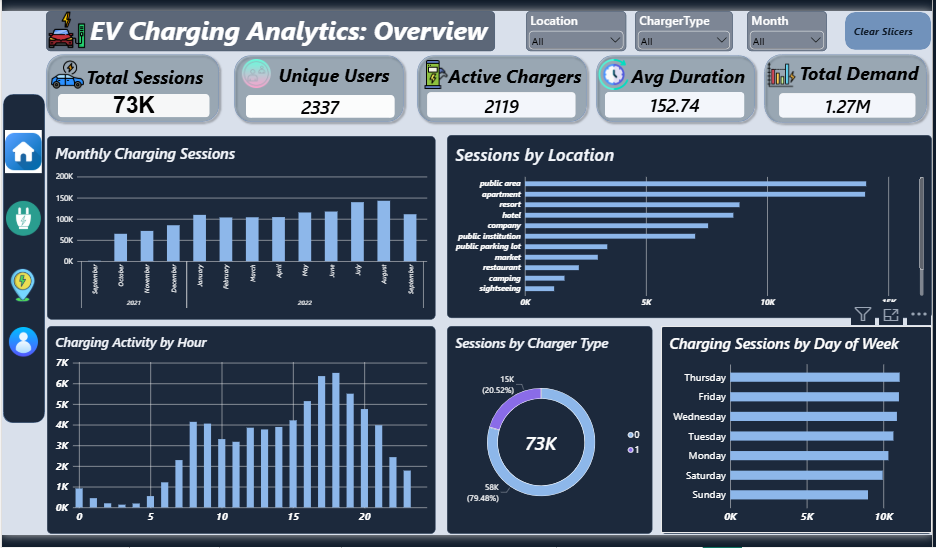

Layout of this report page (visuals, bound fields, positions):
{"tool":"powerbi","page":{"name":"overview","canvas":[1920,1080],"ordinal":0},"visuals":[{"type":"group","id":"g1","title":"Group 2","box":[66.1,80.6,417,156.9],"z":0},{"type":"group","id":"g2","title":"Group 1","box":[82.6,80.6,400.5,156.9],"z":0,"group":"g1"},{"type":"group","id":"g3","title":"Group 1","box":[1564.8,80.6,353.4,159],"z":0,"group":"g10"},{"type":"group","id":"g4","title":"Group 1","box":[470.7,82.6,409.4,154.8],"z":0,"group":"g7"},{"type":"group","id":"g5","title":"Group 1","box":[849.1,82.6,405,154.8],"z":0,"group":"g14"},{"type":"group","id":"g6","title":"Group 1","box":[1218.2,82.6,380.4,154.8],"z":0,"group":"g9"},{"type":"shape","box":[2.1,171.4,86.7,679.2],"z":0,"group":"g13"},{"type":"shape","box":[2.1,179.6,78.5,671],"z":0,"group":"g11"},{"type":"textbox","box":[90.8,0,927,82.6],"z":1000,"group":"g12"},{"type":"group","id":"g7","title":"Group 3","box":[470.7,82.6,409.4,154.8],"z":1000},{"type":"image","box":[66.1,96,138.3,72.3],"z":1000,"group":"g1"},{"type":"image","box":[483.7,100,84.6,59.9],"z":1000,"group":"g7"},{"type":"image","box":[846.8,100,97,64],"z":1000,"group":"g14"},{"type":"image","box":[1216,100,91.1,64],"z":1000,"group":"g9"},{"type":"image","box":[1577.5,102.1,64,59.9],"z":1000,"group":"g10"},{"type":"shape","box":[82.6,80.6,374.5,156.9],"z":2000,"group":"g2"},{"type":"shape","box":[1564.8,80.6,353,159],"z":2000,"group":"g3"},{"type":"shape","box":[470.7,82.6,367.5,154.8],"z":2000,"group":"g4"},{"type":"group","id":"g8","title":"Group 3","box":[846.8,82.6,407.4,154.8],"z":2000},{"type":"shape","box":[849.1,82.6,367.5,154.8],"z":2000,"group":"g5"},{"type":"shape","box":[1218.2,82.6,345.1,154.8],"z":2000,"group":"g6"},{"type":"group","id":"g9","title":"Group 3","box":[1216,82.6,381.9,154.8],"z":3000},{"type":"textbox","box":[1620.9,104.1,297.3,76.4],"z":3000,"group":"g3"},{"type":"textbox","box":[491.9,108.2,388.1,80.5],"z":3000,"group":"g4"},{"type":"textbox","box":[866,109.6,388.1,80.5],"z":3000,"group":"g5"},{"type":"textbox","box":[1234.1,109.6,364.5,80.5],"z":3000,"group":"g6"},{"type":"textbox","box":[104.7,111.4,378.4,76.6],"z":3000,"group":"g2"},{"type":"group","id":"g10","title":"Group 3","box":[1564.8,80.6,353.4,159],"z":4000},{"type":"cardVisual","fields":{"Data":["ev_charging_analytics charging_sessions.active_chargers"]},"box":[877.8,168.1,307.6,53.7],"z":4000,"group":"g5"},{"type":"cardVisual","fields":{"Data":["ev_charging_analytics charging_sessions.Average Duration"]},"box":[1245.1,168.1,288.9,53.7],"z":4000,"group":"g6"},{"type":"cardVisual","fields":{"Data":["ev_charging_analytics charging_sessions.Total Demand"]},"box":[1604.4,170.2,282.8,51.6],"z":4000,"group":"g3"},{"type":"cardVisual","fields":{"Data":["ev_charging_analytics charging_sessions.total_sesions"]},"box":[116.5,172,313.5,48.1],"z":4000,"group":"g2"},{"type":"cardVisual","fields":{"Data":["ev_charging_analytics charging_sessions.unique_users"]},"box":[504,172.8,307.6,47.5],"z":4000,"group":"g4"},{"type":"clusteredColumnChart","title":"Monthly Charging Sessions","fields":{"Category":["ev_charging_analytics charging_sessions.StartDatetime.Variation.Date Hierarchy.Year","ev_charging_analytics charging_sessions.StartDatetime.Variation.Date Hierarchy.Month"],"Y":["ev_charging_analytics charging_sessions.Total Demand"]},"box":[92.9,257.1,802.4,378.6],"z":5000},{"type":"clusteredBarChart","title":"Sessions by Location","fields":{"Category":["ev_charging_analytics charging_sessions.Location"],"Y":["ev_charging_analytics charging_sessions.total_sesions"]},"box":[918.7,256,1001.3,377.8],"z":6000},{"type":"clusteredColumnChart","title":"Charging Activity by Hour","fields":{"Category":["ev_charging_analytics charging_sessions.Starting Hour"],"Y":["ev_charging_analytics charging_sessions.total_sesions"]},"box":[92.9,650,802.4,428.6],"z":7000},{"type":"donutChart","title":"Sessions by Charger Type","fields":{"Y":["ev_charging_analytics charging_sessions.total_sesions"],"Category":["ev_charging_analytics charging_sessions.ChargerType"]},"box":[919,650,423.8,428.6],"z":8000},{"type":"barChart","title":"Charging Sessions by Day of Week","fields":{"Category":["ev_charging_analytics charging_sessions.Weekday"],"Y":["ev_charging_analytics charging_sessions.total_sesions"]},"box":[1359.5,650,559.5,428.6],"z":9000},{"type":"slicer","fields":{"Values":["ev_charging_analytics charging_sessions.Location"]},"box":[1081.8,0,207.1,83.3],"z":10000},{"type":"slicer","fields":{"Values":["ev_charging_analytics charging_sessions.ChargerType"]},"box":[1306.8,0,202.3,82.6],"z":11000},{"type":"slicer","fields":{"Values":["ev_charging_analytics charging_sessions.StartDay.Variation.Date Hierarchy.Year","ev_charging_analytics charging_sessions.StartDay.Variation.Date Hierarchy.Month"]},"box":[1538.1,0,165.2,82.6],"z":12000},{"type":"actionButton","box":[1740.4,2.1,177.5,78.5],"z":13000},{"type":"group","id":"g11","title":"Group 4","box":[0,179.6,84.6,671],"z":14000},{"type":"group","id":"g12","title":"Group 5","box":[64,0,953.8,82.6],"z":15000},{"type":"group","id":"g13","title":"Group 4","box":[2.1,171.4,86.7,679.2],"z":16000},{"type":"image","box":[6.1,245,76.4,88.8],"z":16000,"group":"g13"},{"type":"image","box":[4.1,256,74.3,76.4],"z":16000,"group":"g11"},{"type":"image","box":[4.1,367.5,74.3,111.5],"z":17000,"group":"g11"},{"type":"image","box":[8.2,383.3,72.1,87.8],"z":17000,"group":"g13"},{"type":"image","box":[2.1,506.1,80.5,80.5],"z":18000,"group":"g11"},{"type":"image","box":[4,529.9,76.3,71.1],"z":18000,"group":"g13"},{"type":"image","box":[0,644.4,84.6,70.2],"z":19000,"group":"g11"},{"type":"image","box":[8.2,651.7,72.1,60.6],"z":19000,"group":"g13"},{"type":"image","box":[64,0,140.4,78.5],"z":19002,"group":"g12"},{"type":"group","id":"g14","title":"Group 6","box":[846.8,82.6,407.4,154.8],"z":19004,"group":"g8"}]}

Visuals, with their boxes on the page's 1920x1080 design canvas (x1, y1, x2, y2). These are canvas units, not pixel positions in the 936x548 screenshot, which may show the page scaled, cropped or inside an application window:
"Group 2" group: box(66, 81, 483, 238)
"Group 1" group: box(83, 81, 483, 238)
"Group 1" group: box(1565, 81, 1918, 240)
"Group 1" group: box(471, 83, 880, 237)
"Group 1" group: box(849, 83, 1254, 237)
"Group 1" group: box(1218, 83, 1599, 237)
shape: box(2, 171, 89, 851)
shape: box(2, 180, 81, 851)
textbox: box(91, 0, 1018, 83)
"Group 3" group: box(471, 83, 880, 237)
image: box(66, 96, 204, 168)
image: box(484, 100, 568, 160)
image: box(847, 100, 944, 164)
image: box(1216, 100, 1307, 164)
image: box(1578, 102, 1642, 162)
shape: box(83, 81, 457, 238)
shape: box(1565, 81, 1918, 240)
shape: box(471, 83, 838, 237)
"Group 3" group: box(847, 83, 1254, 237)
shape: box(849, 83, 1217, 237)
shape: box(1218, 83, 1563, 237)
"Group 3" group: box(1216, 83, 1598, 237)
textbox: box(1621, 104, 1918, 180)
textbox: box(492, 108, 880, 189)
textbox: box(866, 110, 1254, 190)
textbox: box(1234, 110, 1599, 190)
textbox: box(105, 111, 483, 188)
"Group 3" group: box(1565, 81, 1918, 240)
cardVisual - ev_charging_analytics charging_sessions.active_chargers: box(878, 168, 1185, 222)
cardVisual - ev_charging_analytics charging_sessions.Average Duration: box(1245, 168, 1534, 222)
cardVisual - ev_charging_analytics charging_sessions.Total Demand: box(1604, 170, 1887, 222)
cardVisual - ev_charging_analytics charging_sessions.total_sesions: box(116, 172, 430, 220)
cardVisual - ev_charging_analytics charging_sessions.unique_users: box(504, 173, 812, 220)
"Monthly Charging Sessions" clusteredColumnChart: box(93, 257, 895, 636)
"Sessions by Location" clusteredBarChart: box(919, 256, 1920, 634)
"Charging Activity by Hour" clusteredColumnChart: box(93, 650, 895, 1079)
"Sessions by Charger Type" donutChart: box(919, 650, 1343, 1079)
"Charging Sessions by Day of Week" barChart: box(1360, 650, 1919, 1079)
slicer - ev_charging_analytics charging_sessions.Location: box(1082, 0, 1289, 83)
slicer - ev_charging_analytics charging_sessions.ChargerType: box(1307, 0, 1509, 83)
slicer - ev_charging_analytics charging_sessions.StartDay.Variation.Date Hierarchy.Year x ev_charging_analytics charging_sessions.StartDay.Variation.Date Hierarchy.Month: box(1538, 0, 1703, 83)
actionButton: box(1740, 2, 1918, 81)
"Group 4" group: box(0, 180, 85, 851)
"Group 5" group: box(64, 0, 1018, 83)
"Group 4" group: box(2, 171, 89, 851)
image: box(6, 245, 82, 334)
image: box(4, 256, 78, 332)
image: box(4, 368, 78, 479)
image: box(8, 383, 80, 471)
image: box(2, 506, 83, 587)
image: box(4, 530, 80, 601)
image: box(0, 644, 85, 715)
image: box(8, 652, 80, 712)
image: box(64, 0, 204, 78)
"Group 6" group: box(847, 83, 1254, 237)
